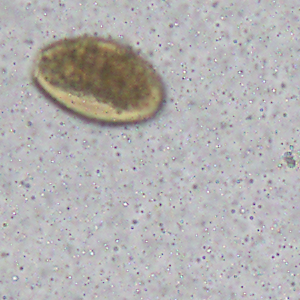Fasciola_hepatica_egg: (31, 35, 165, 126)
